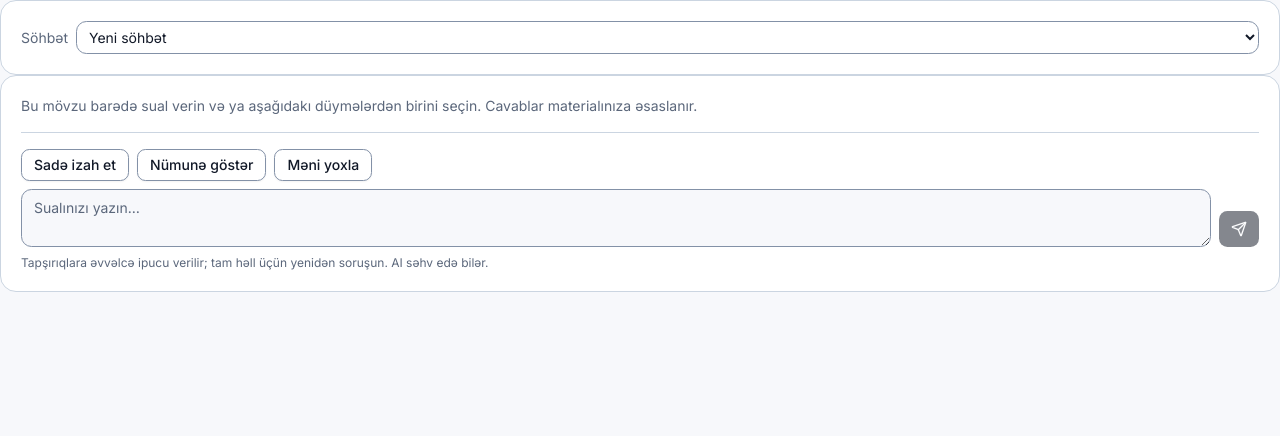
Test: Soruş tab › renders a CLARIFY reply with its sources
The width and height of the screenshot is (1280, 436).
Select "Prosessor · 12.10.2026, 10:00" in the dropdown labelled "Söhbət": (668, 38) top-left (76, 21), bottom-right (1259, 54)
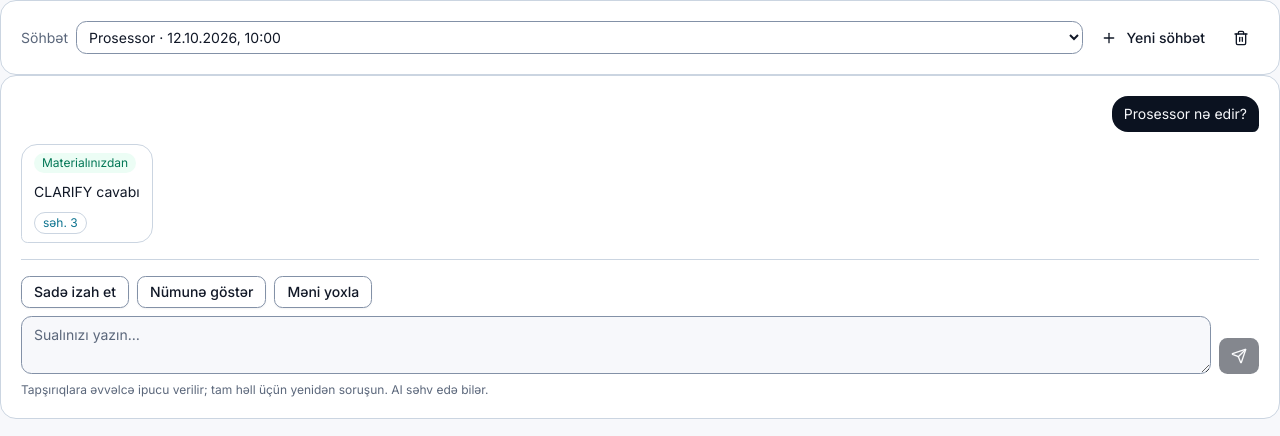
Expected: the text "Materialınızdan" is shown, top-left (34, 153), bottom-right (136, 173)
Expected: the text "səh. 3" is shown, top-left (34, 212), bottom-right (87, 234)
